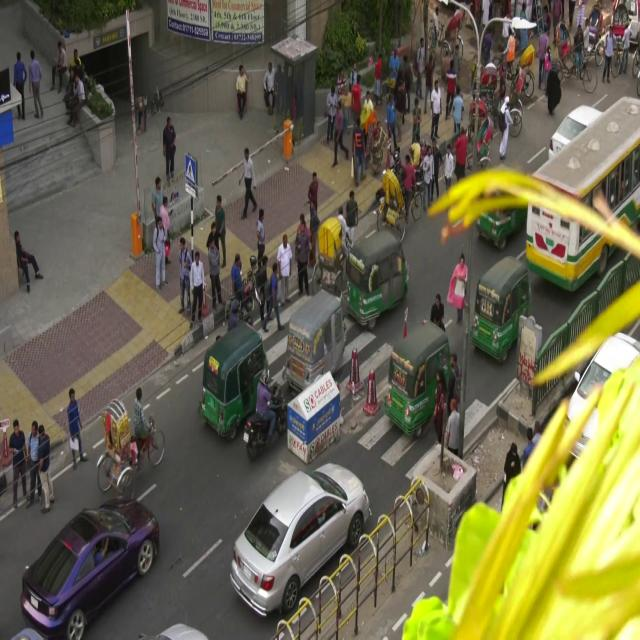blue: (8, 492, 162, 635)
silver: (228, 465, 372, 620)
